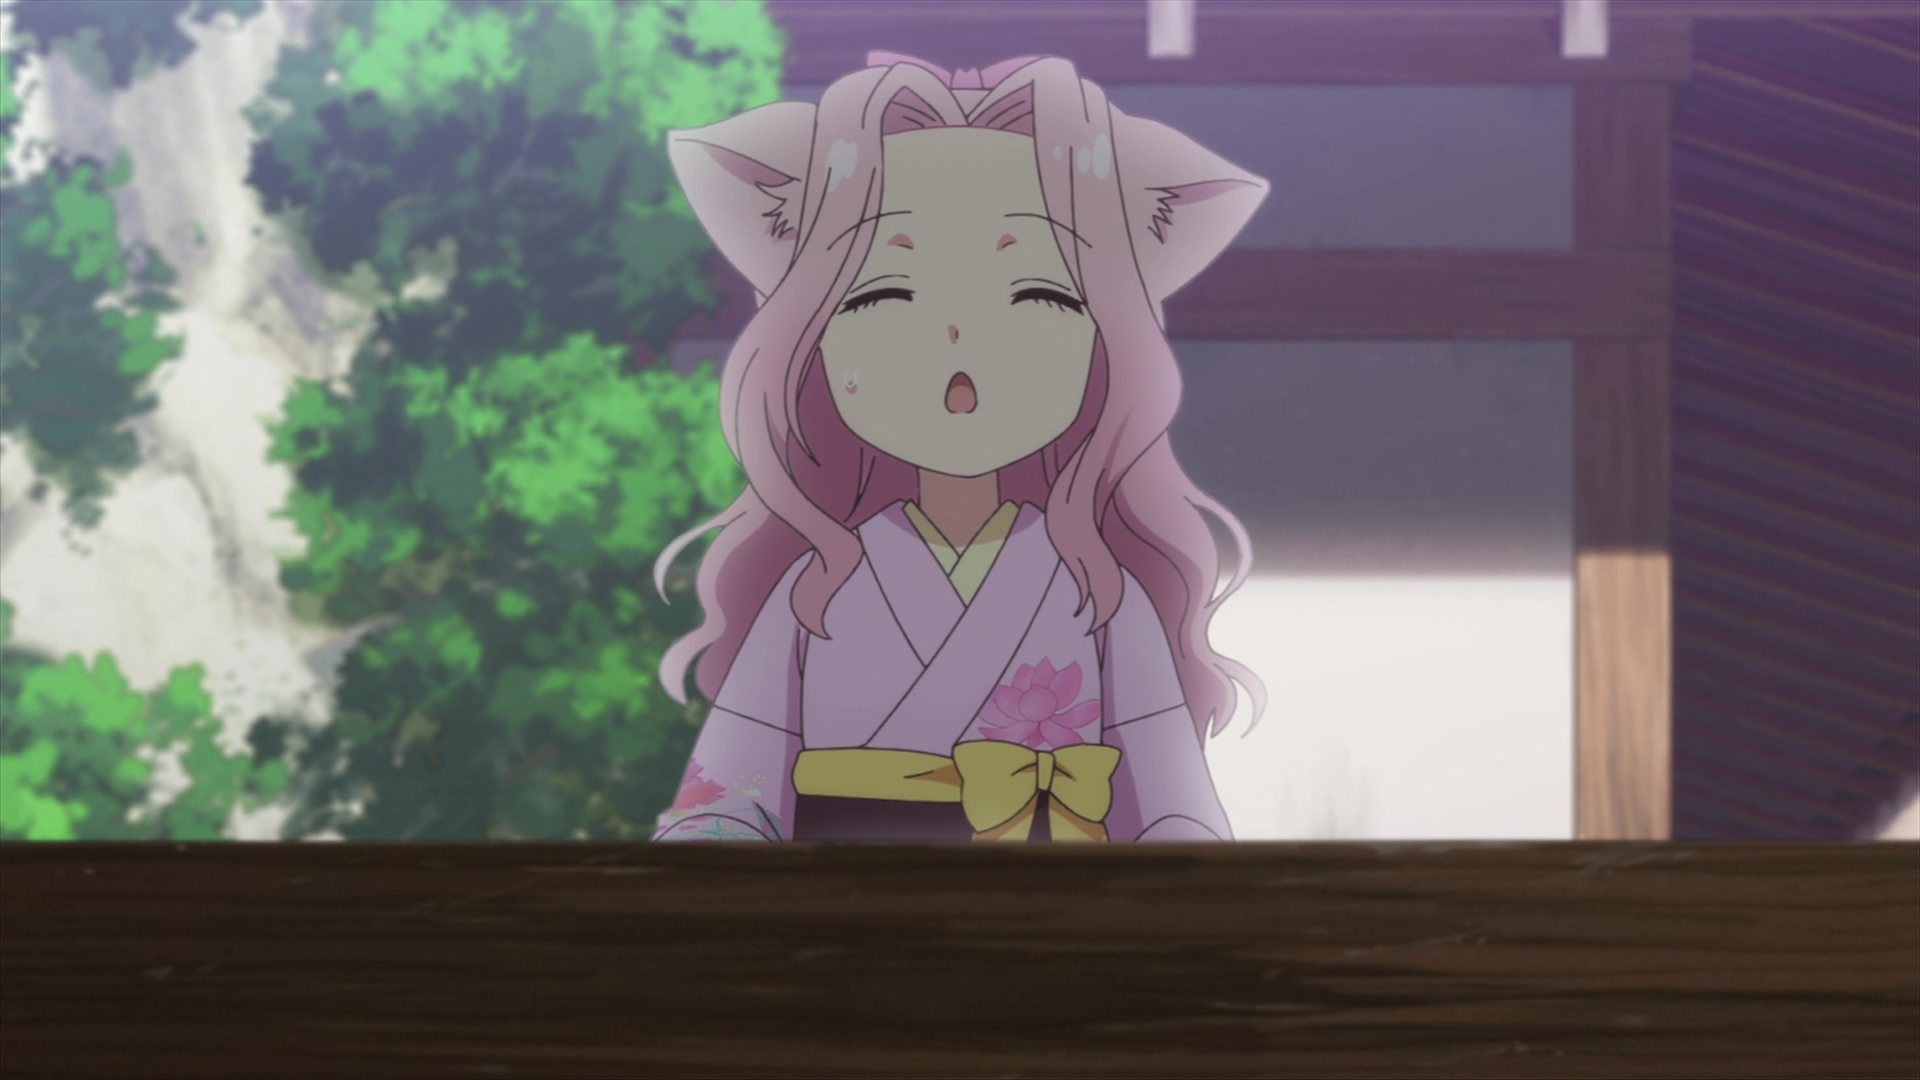莲: (651, 49, 1273, 841)
